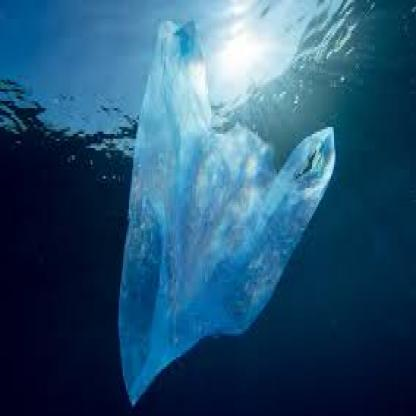Plastic: (106, 14, 348, 407)
